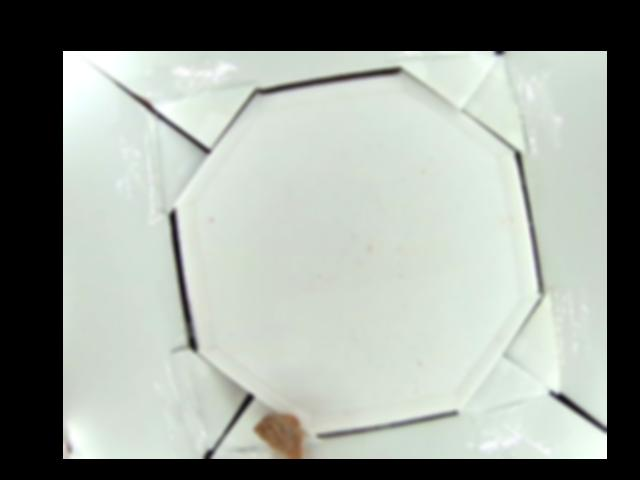Brisk: (251, 412, 303, 458)
